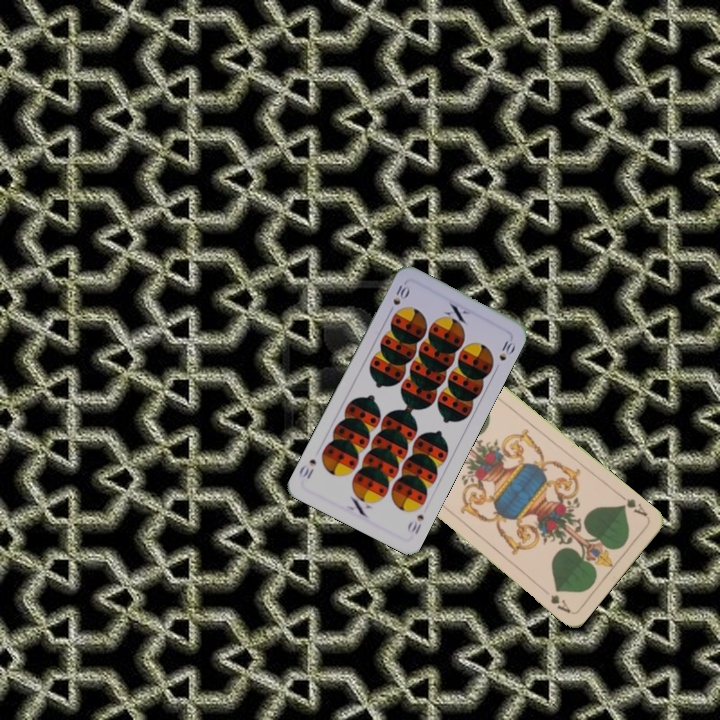GA: (616, 490, 650, 519)
S10: (384, 279, 412, 317), (403, 510, 426, 537)
